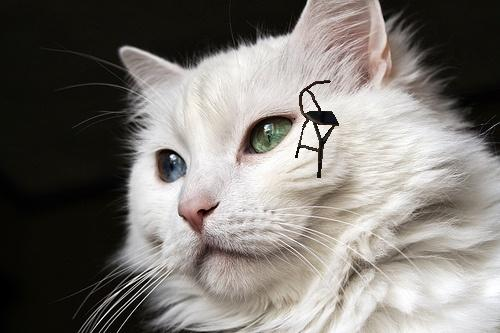tampered: (296, 81, 339, 178)
